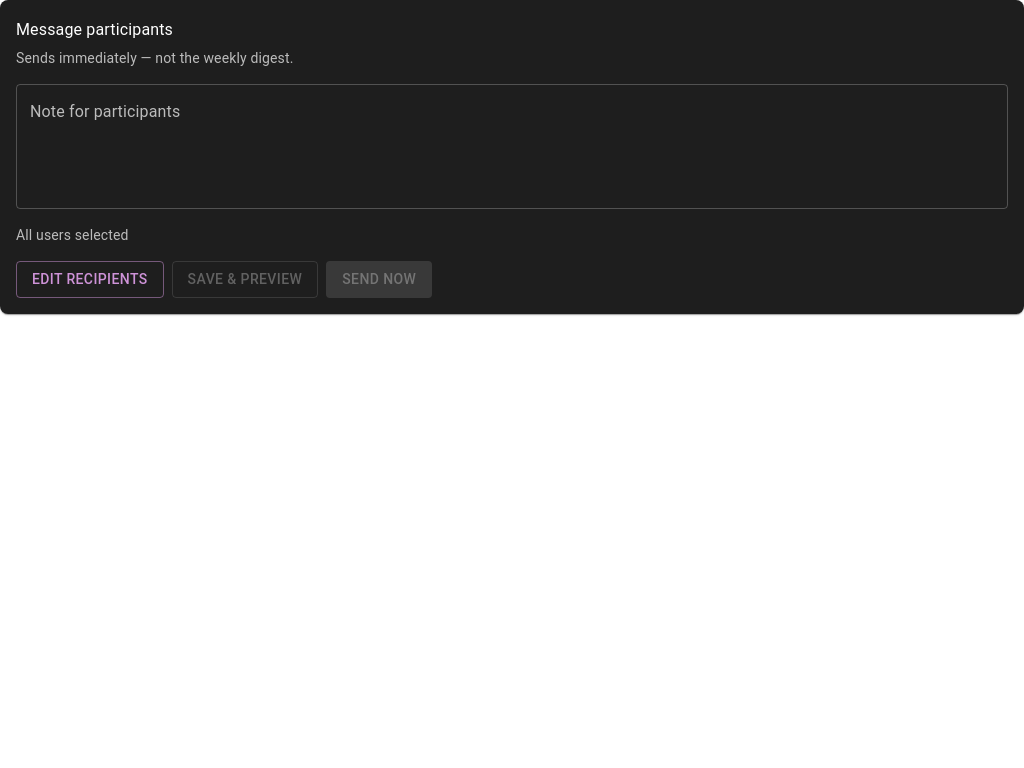
it: AdminOnDemandEmailCard › disables Send Now when zero recipients are selected
Click the button "Edit recipients".
click(90, 279)  # box [16, 261, 164, 298]
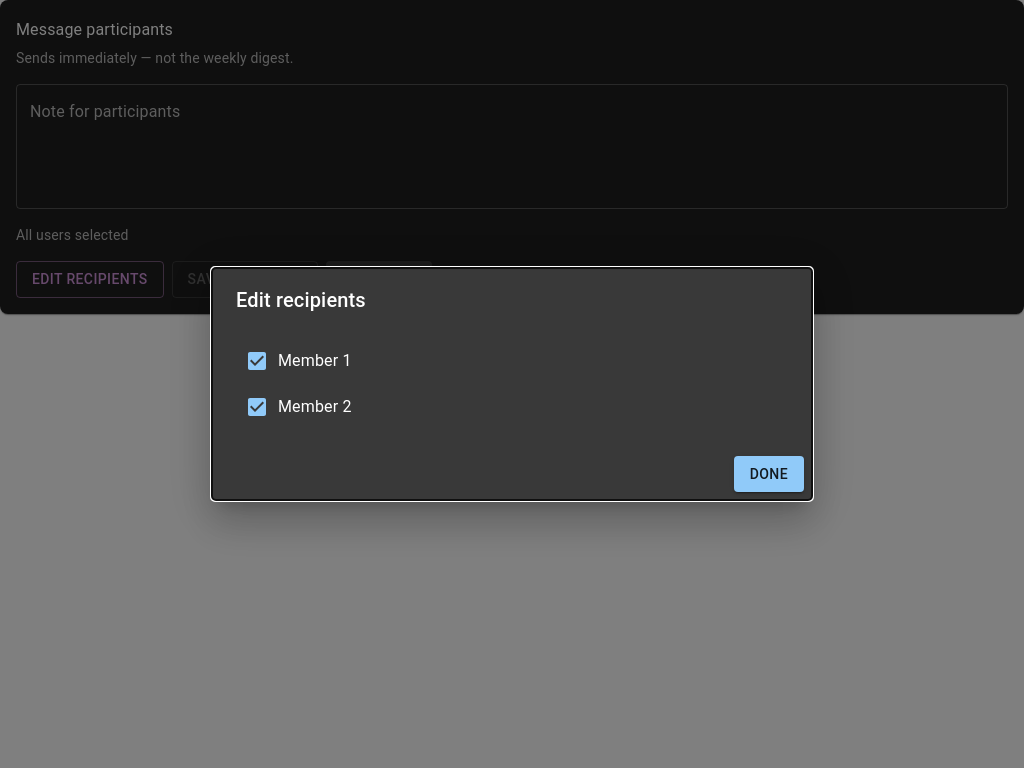
Click the checkbox labelled "Member 1".
click(298, 361)  # box [245, 349, 352, 373]
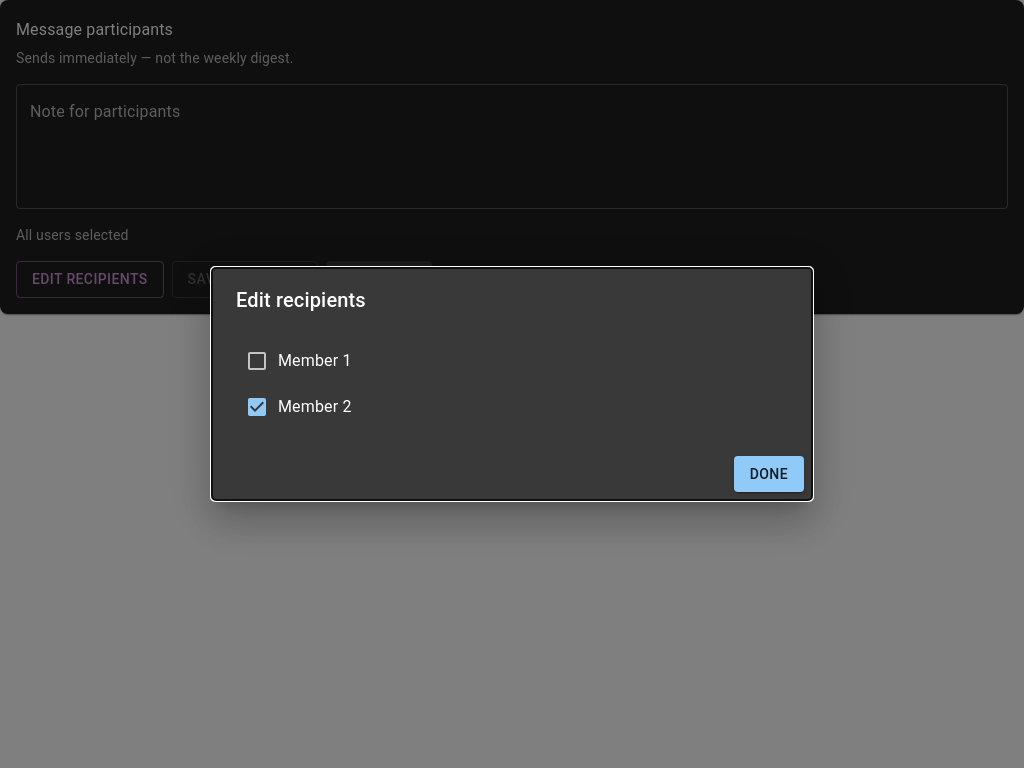
Click the checkbox labelled "Member 2".
click(298, 407)  # box [245, 395, 352, 419]
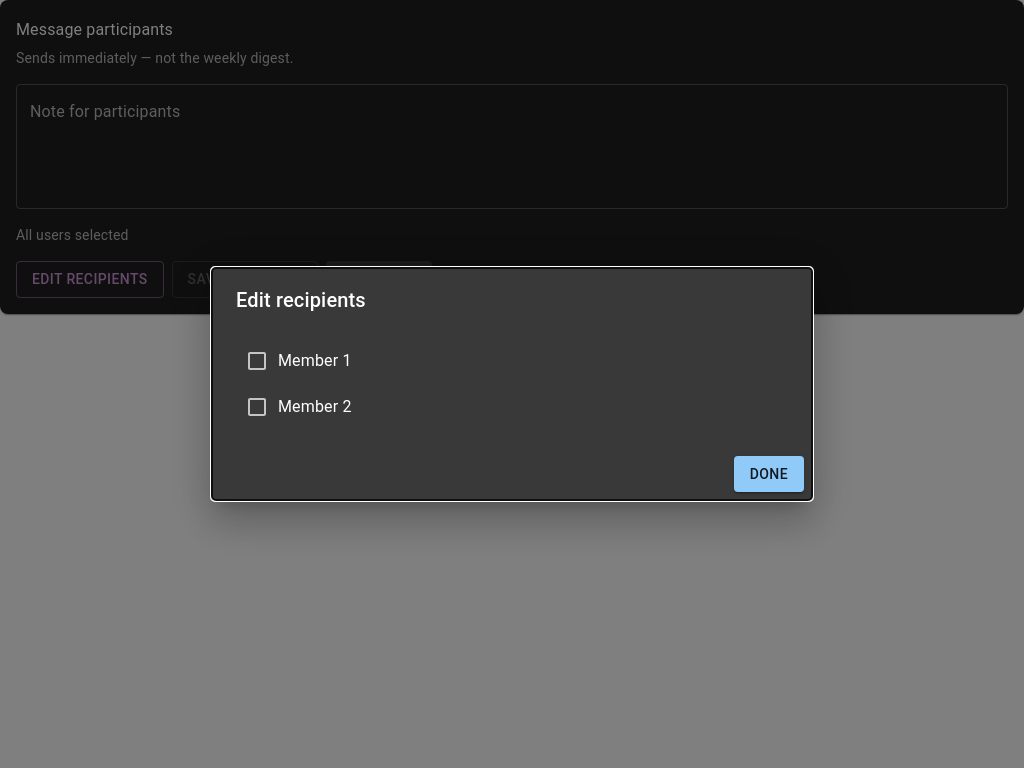
Click the button "Done".
click(769, 474)  # box [734, 456, 804, 492]
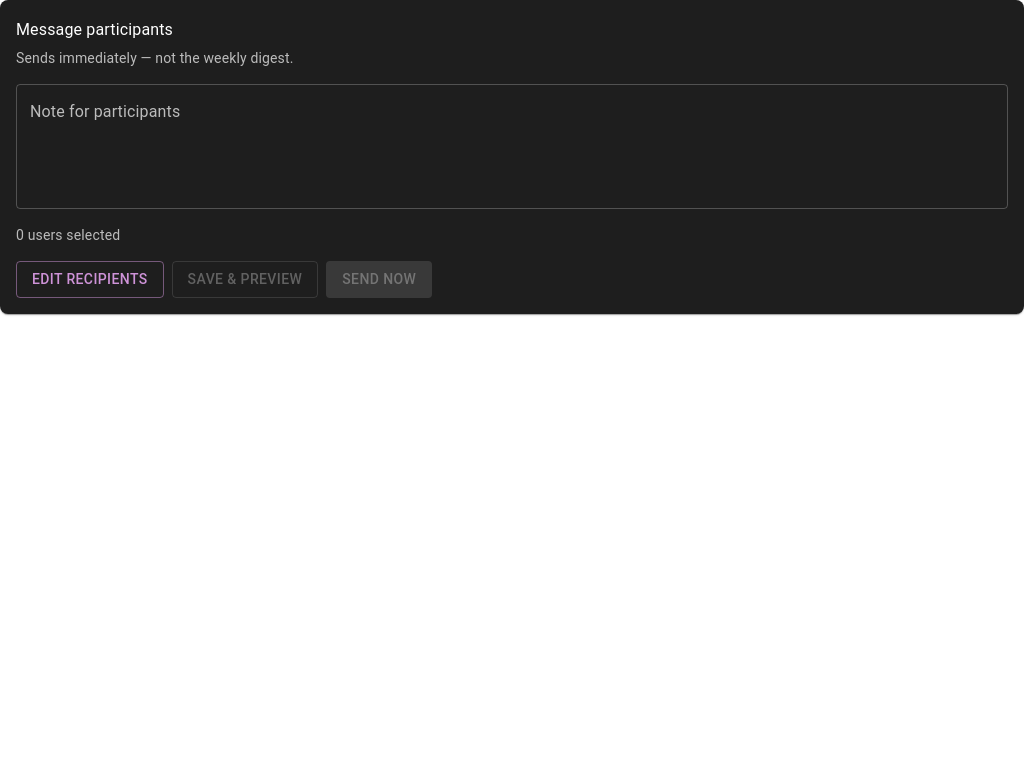
Result: the dialog is gone
Result: the text "0 users selected" is shown at [16, 227, 120, 243]
Type "Kickoff moved" into the text box labelled "Note for participants".
click(512, 146); type("Kickoff moved")  # box [30, 100, 994, 192]
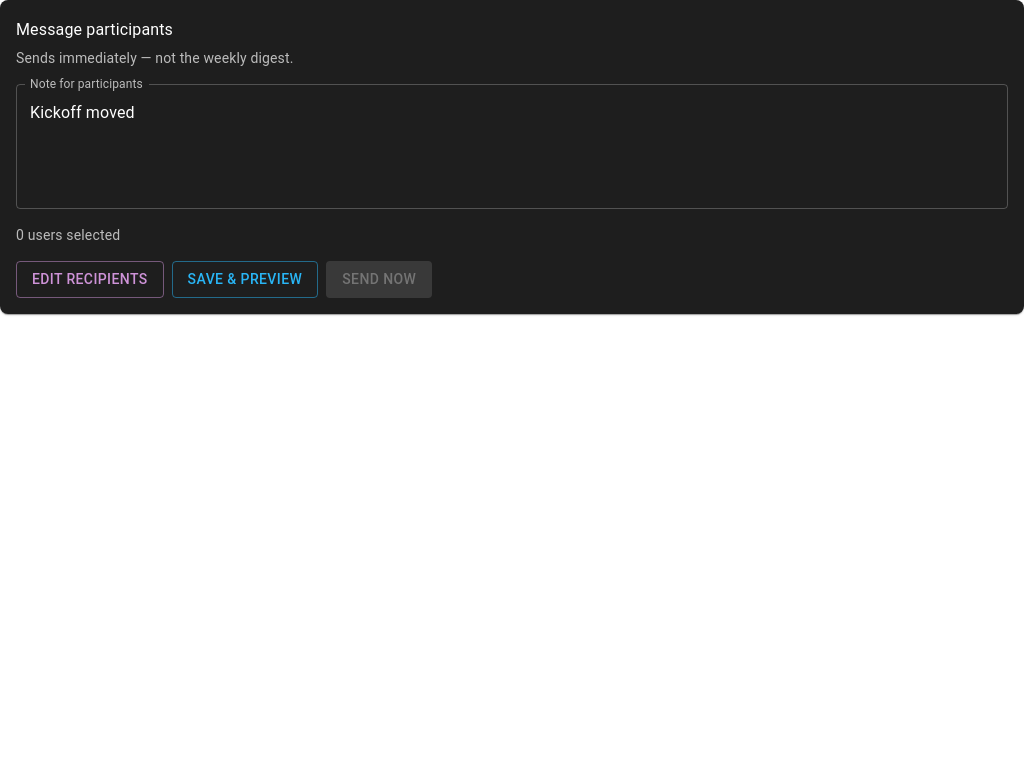
Expected: the button "Send Now" is disabled, [326, 261, 432, 298]
Result: the button "Save & Preview" is enabled at [172, 261, 318, 298]
